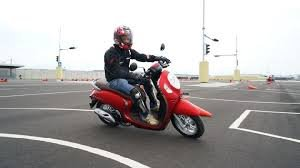motor: (92, 55, 209, 143)
